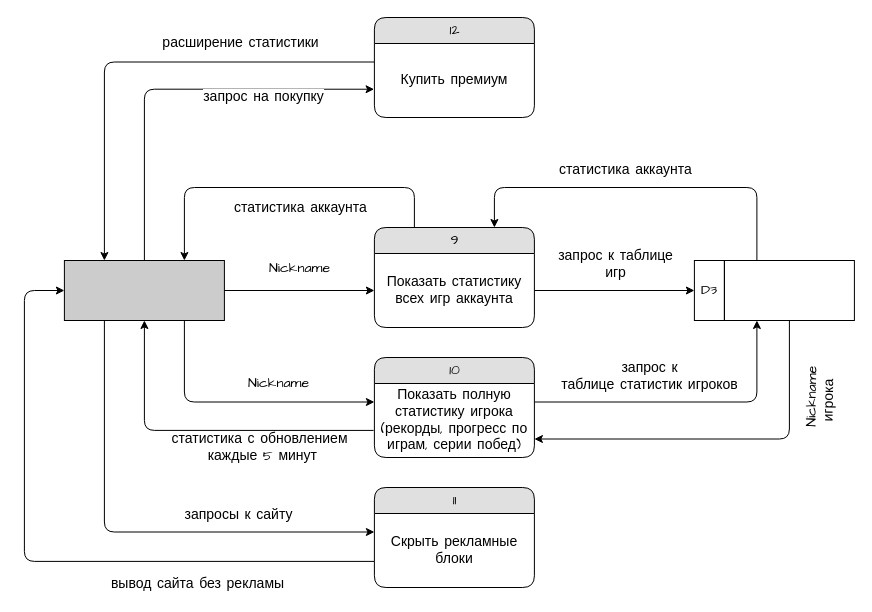
This 872x612 diagram has some shape labels left out. The centre of each missing label's shape, as x and y in pixels:
Открытые аккаунты Activision: point (788, 290)
Посетитель сайта: point (143, 290)
